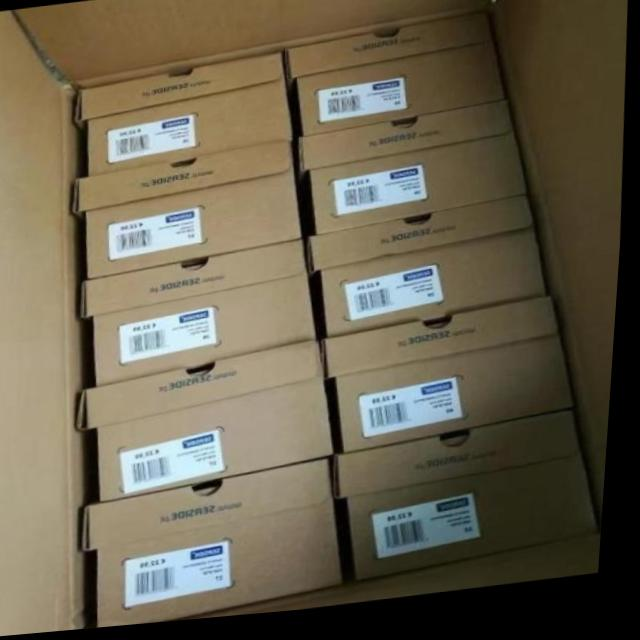box: (341, 420, 607, 588), (89, 465, 349, 630), (83, 348, 339, 503), (329, 306, 579, 458), (86, 246, 321, 388), (312, 206, 550, 345), (75, 146, 305, 282), (302, 108, 529, 239), (75, 57, 295, 179), (290, 19, 505, 139)
